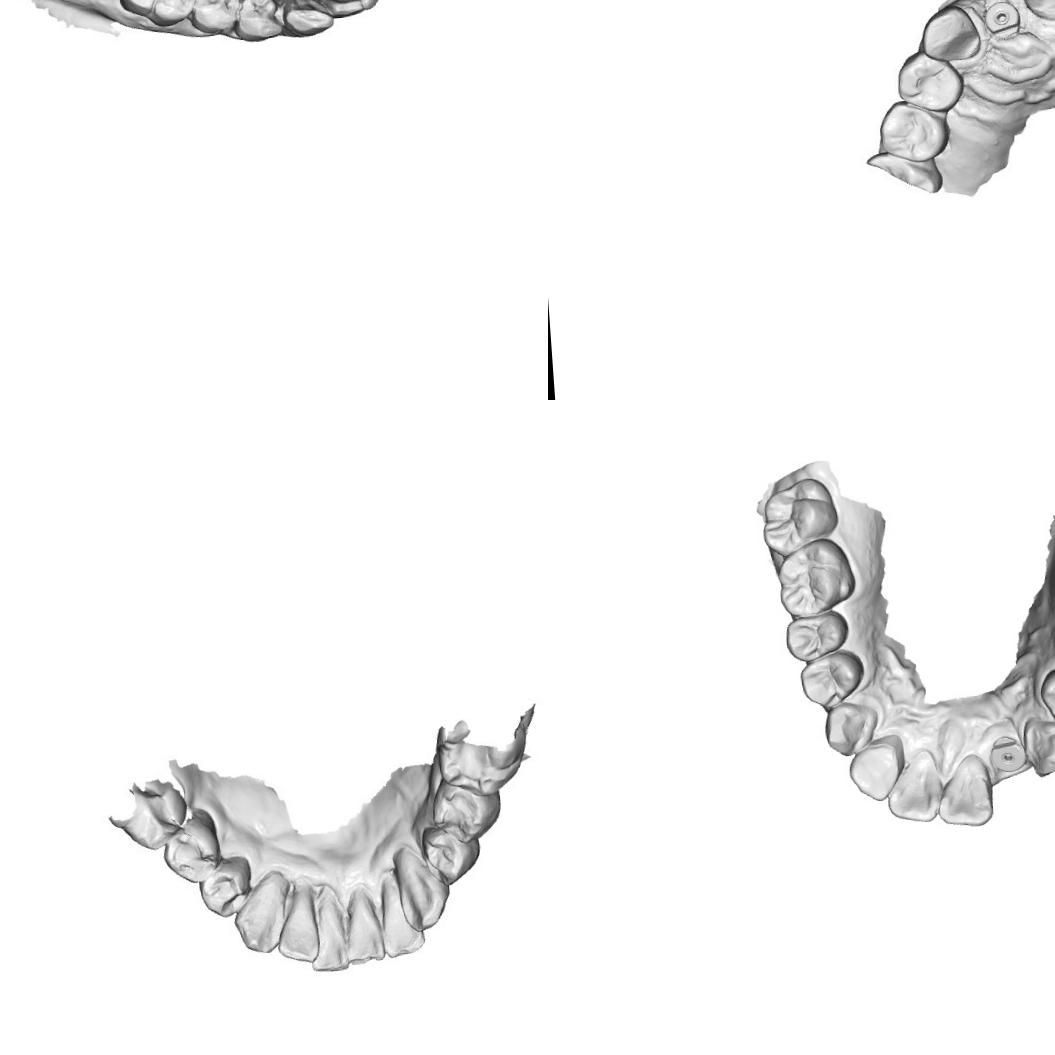canine: (392, 846, 452, 936), (230, 876, 288, 956), (916, 2, 982, 66), (822, 700, 881, 758), (278, 0, 338, 44), (1021, 713, 1055, 779)
implant: (987, 732, 1027, 774), (980, 0, 1021, 38)
incisor: (934, 752, 995, 828), (882, 748, 942, 824), (302, 892, 352, 977), (377, 880, 424, 961), (342, 890, 390, 968), (274, 887, 322, 964), (845, 740, 902, 804), (311, 0, 366, 22)
molar: (773, 534, 858, 618), (757, 474, 839, 558), (104, 770, 184, 846), (114, 0, 198, 30)
premolar: (422, 775, 505, 850), (874, 97, 954, 168), (890, 48, 965, 114), (797, 648, 868, 712), (160, 812, 224, 882), (414, 818, 480, 884), (195, 852, 256, 918), (782, 608, 850, 664), (188, 0, 245, 42), (232, 0, 283, 45), (1037, 662, 1055, 732)
